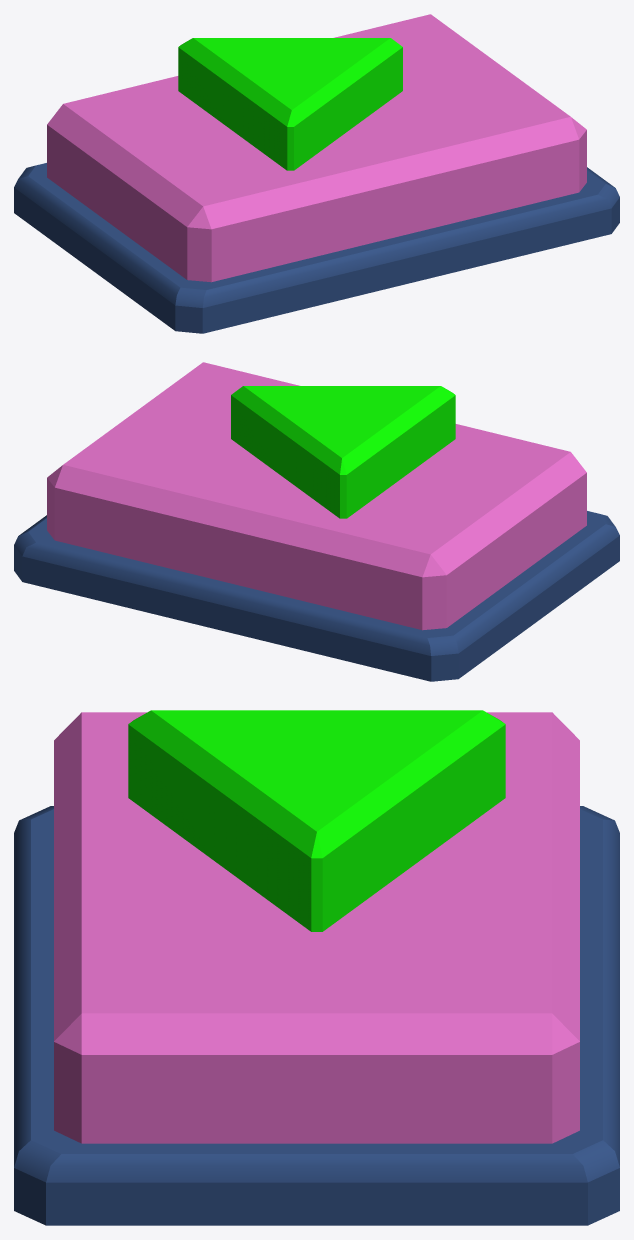
The model's file is Prekidac_3.fbx.
3 renders of one model, top to bottom at view 1: azimuth 30°, elevation 25°; view 2: azimuth 150°, elevation 25°; view 3: azimuth 270°, elevation 25°, orthographic. The views are drawn at different scales.
Visible parts, largest first — view 1: Cube.005, Cylinder.009; view 2: Cube.005, Cylinder.009; view 3: Cube.005, Cylinder.009.
Part boxes in pixels (bbox=[...]): Cube.005: bbox=[14, 14, 619, 333]; Cylinder.009: bbox=[178, 38, 402, 170]; Cube.005: bbox=[14, 362, 619, 681]; Cylinder.009: bbox=[231, 386, 455, 518]; Cube.005: bbox=[14, 712, 619, 1225]; Cylinder.009: bbox=[128, 710, 505, 931].
Size of the model in its own units: 0.7339 by 0.2556 by 0.516.
